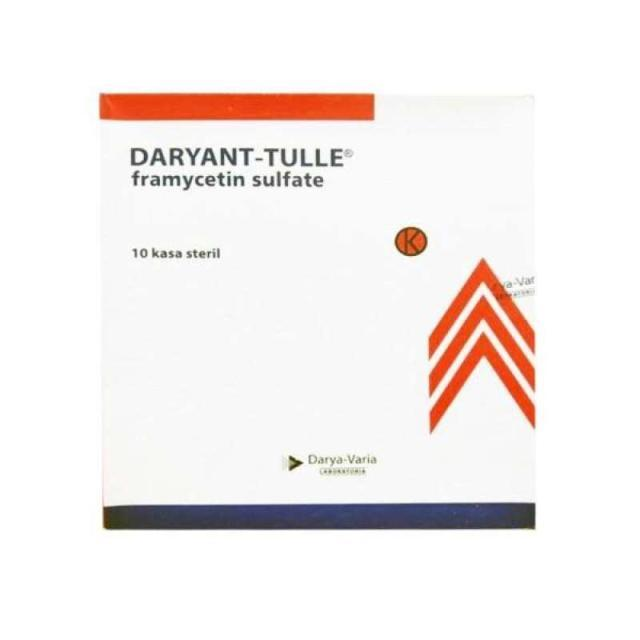drug-name: (129, 142, 354, 170)
